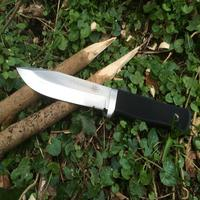knife: (14, 56, 195, 136)
